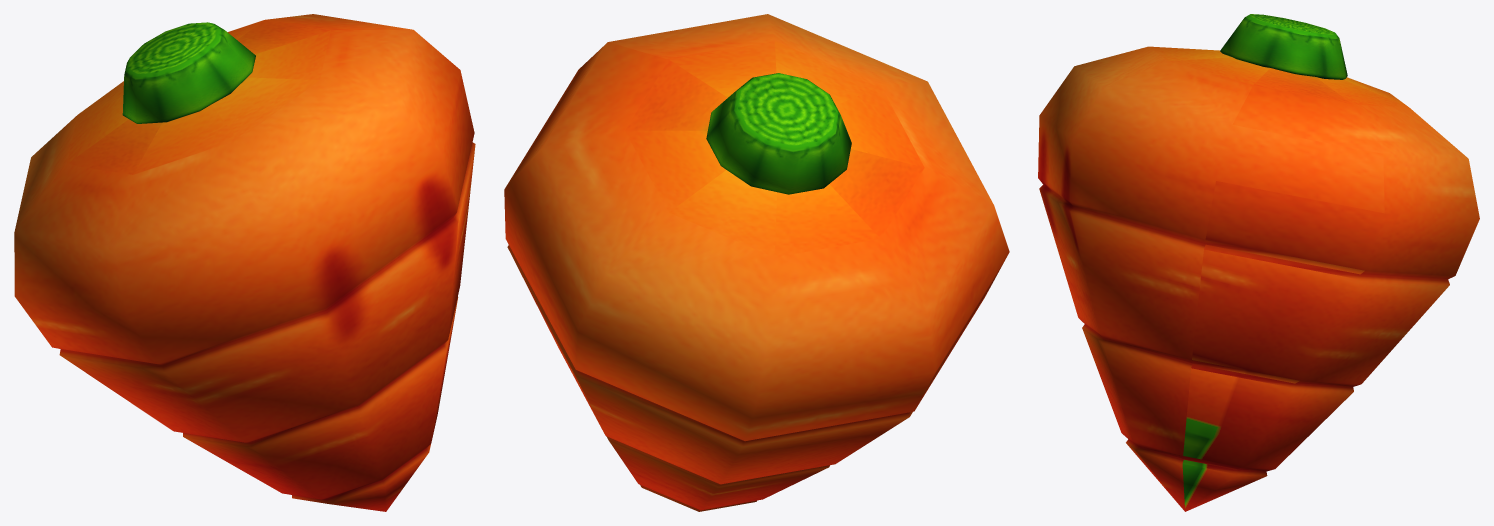
Rendered from Carrot.FBX.
3 views of the same model, side by side, from view 1: azimuth 30°, elevation 25°; view 2: azimuth 150°, elevation 25°; view 3: azimuth 270°, elevation 25° (orthographic). The views are drawn at different scales.
Visible parts, largest first — view 1: Body; view 2: Body; view 3: Body.
Boxes of the visible parts, box(x1,y1,x2,y2) form: Body: box(14, 14, 475, 511); Body: box(504, 14, 1009, 511); Body: box(1038, 14, 1479, 511).
Size of the model in its own units: 6.14 by 6.86 by 6.33.
Materials: 1 (1 with a texture image).
